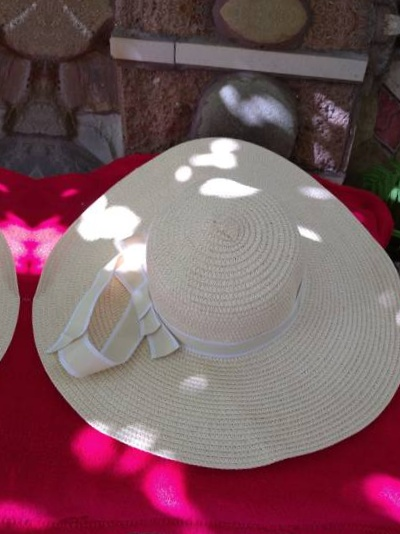Hat: (27, 107, 400, 478), (0, 75, 28, 446)
